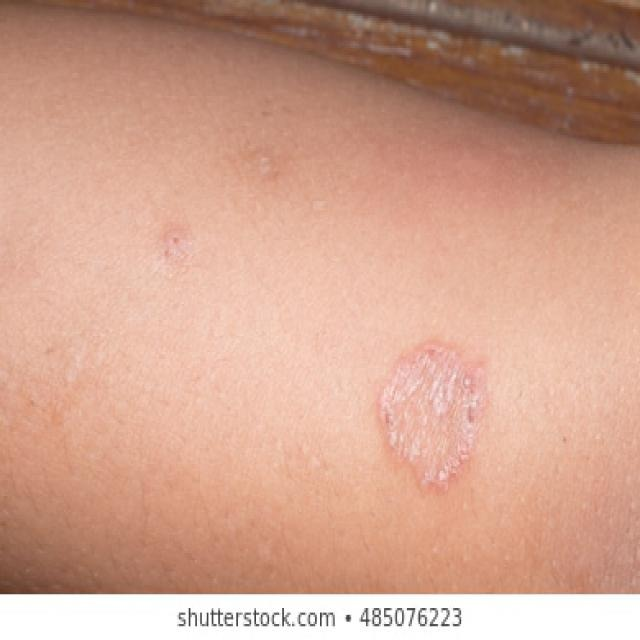Ringworm: (368, 320, 500, 507)
